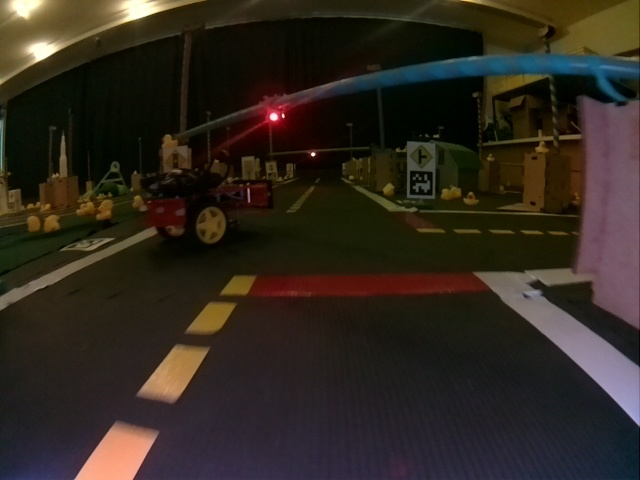Duckie: (44, 215, 60, 231), (27, 217, 40, 232), (535, 141, 549, 153), (465, 193, 478, 205), (163, 135, 176, 147), (383, 183, 395, 196), (132, 196, 142, 208), (442, 189, 451, 199), (100, 209, 110, 218), (77, 204, 88, 212), (452, 188, 460, 197)
Duckiebot: (143, 168, 273, 244)
Intersection sign: (409, 143, 434, 169)
QR code: (61, 238, 115, 251), (408, 171, 434, 195)
Signal sign: (164, 147, 187, 170)
Traffic light: (264, 99, 288, 123), (308, 150, 317, 159)
